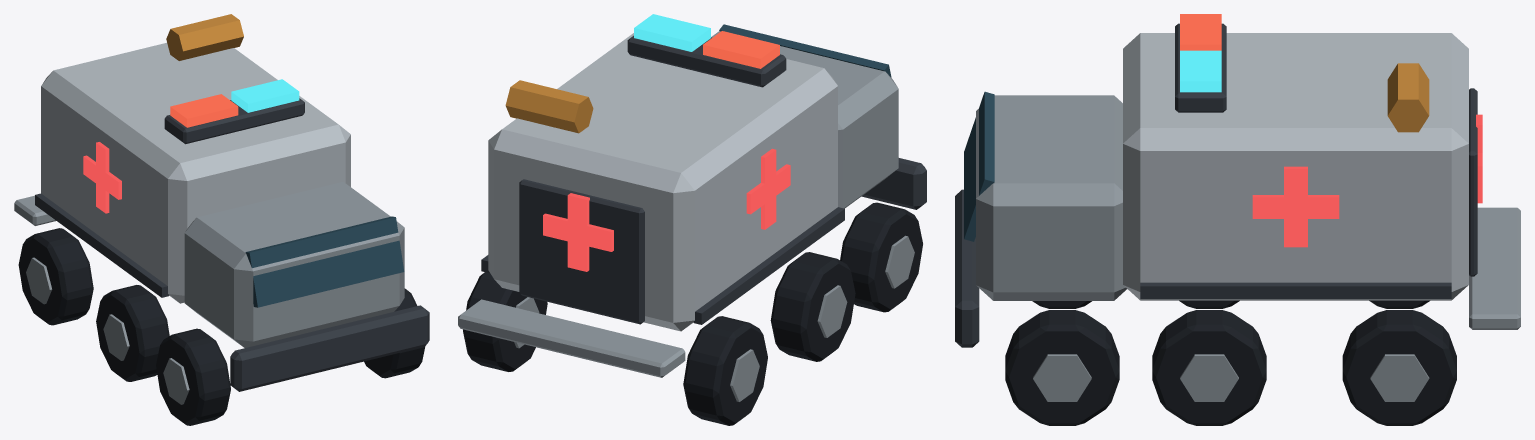
The model's file is exo-medevac.glb.
3 renders of one model, left to right at view 1: azimuth 30°, elevation 25°; view 2: azimuth 150°, elevation 25°; view 3: azimuth 270°, elevation 25°, orthographic. The views are drawn at different scales.
Parts seen in each view (by area): view 1: body; view 2: body; view 3: body.
Boxes of the visible parts, box(x1,y1,x2,y2) form: body: box(14, 14, 429, 425); body: box(458, 14, 926, 425); body: box(955, 14, 1520, 425).
Bounding box in the file's own units: 1.9 × 1.99 × 3.27.
